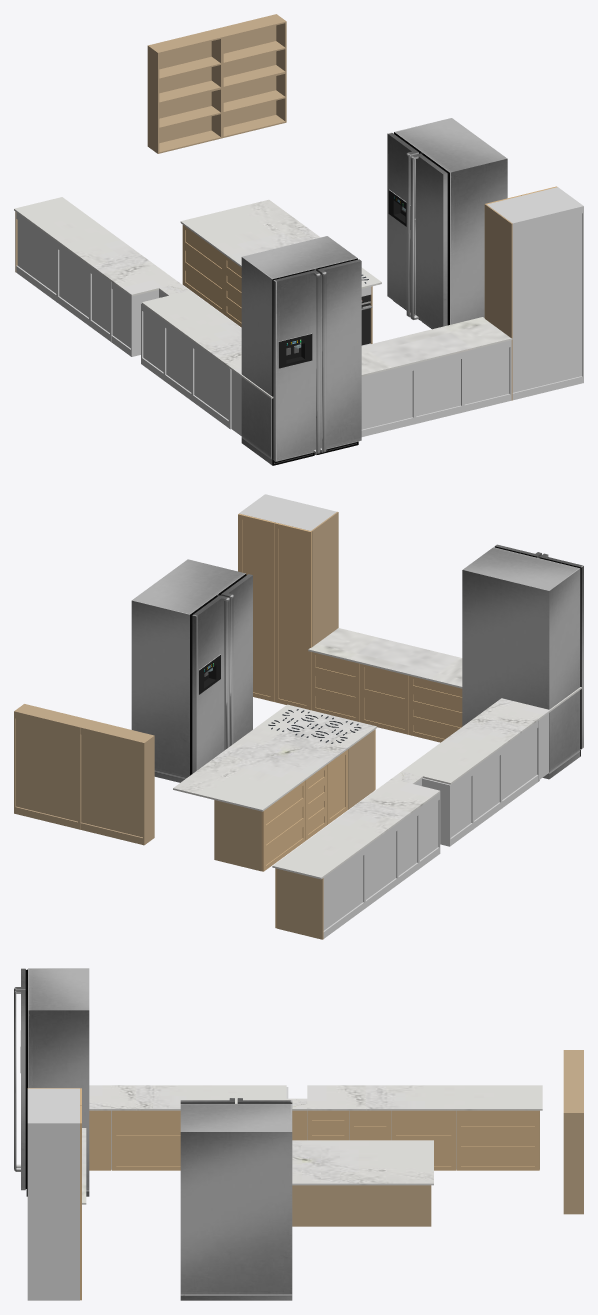
Rendered from Dore_KitchenV2.glb.
3 renders of one model, top to bottom at view 1: azimuth 30°, elevation 25°; view 2: azimuth 150°, elevation 25°; view 3: azimuth 270°, elevation 25°, orthographic.
Visible parts, largest first — view 1: Double Door Fridge, _C-Double Door Fridge (Loose Mesh), 2_Door_007_mesh_005, Worktop_028_mesh_000, Worktop_025_mesh_000, Worktop_026_mesh_000, Worktop_027_mesh_000, 2_Door_007_mesh_000, 1_Door_042_mesh_005, 1_Door_041_mesh_005, 4_Drawer_003_mesh_006, 3_Drawer_006_mesh_006 (+26 smaller); view 2: _C-Double Door Fridge (Loose Mesh), Double Door Fridge, Worktop_025_mesh_000, Worktop_028_mesh_000, 1_Door_041_mesh_005, 1_Door_042_mesh_005, Worktop_027_mesh_000, 2_Door_007_mesh_008, Worktop_026_mesh_000, 2_Door_007_mesh_009, 2_Door_007_mesh_000, 3_Drawer_017_mesh_001 (+20 smaller); view 3: _C-Double Door Fridge (Loose Mesh), Double Door Fridge, 2_Door_007_mesh_001, Worktop_025_mesh_000, Worktop_028_mesh_000, Worktop_045_mesh_000, Worktop_027_mesh_000, 1_Door_042_mesh_001, 2_Door_007_mesh_007, 2_Drawer_008_mesh_011, 2_Drawer_008_mesh_021, 2_Drawer_016_mesh_021 (+6 smaller).
Part boxes in pixels (bbox=[...]): Double Door Fridge: bbox=[241, 236, 361, 465]; _C-Double Door Fridge (Loose Mesh): bbox=[387, 118, 507, 329]; 2_Door_007_mesh_005: bbox=[512, 206, 581, 392]; Worktop_028_mesh_000: bbox=[14, 197, 179, 296]; Worktop_025_mesh_000: bbox=[180, 199, 381, 288]; Worktop_026_mesh_000: bbox=[242, 317, 512, 398]; Worktop_027_mesh_000: bbox=[142, 290, 242, 376]; 2_Door_007_mesh_000: bbox=[485, 204, 512, 400]; 1_Door_042_mesh_005: bbox=[216, 15, 276, 127]; 1_Door_041_mesh_005: bbox=[152, 31, 211, 143]; 4_Drawer_003_mesh_006: bbox=[361, 371, 412, 429]; 3_Drawer_006_mesh_006: bbox=[464, 347, 509, 404]; _C-Double Door Fridge (Loose Mesh): bbox=[131, 559, 252, 782]; Double Door Fridge: bbox=[462, 544, 583, 779]; Worktop_025_mesh_000: bbox=[173, 704, 376, 811]; Worktop_028_mesh_000: bbox=[272, 779, 440, 879]; 1_Door_041_mesh_005: bbox=[81, 727, 142, 837]; 1_Door_042_mesh_005: bbox=[16, 711, 77, 821]; Worktop_027_mesh_000: bbox=[402, 698, 551, 784]; 2_Door_007_mesh_008: bbox=[275, 522, 311, 705]; Worktop_026_mesh_000: bbox=[308, 628, 581, 710]; 2_Door_007_mesh_009: bbox=[239, 513, 275, 696]; 2_Door_007_mesh_000: bbox=[311, 511, 338, 646]; 3_Drawer_017_mesh_001: bbox=[277, 868, 323, 939]; _C-Double Door Fridge (Loose Mesh): bbox=[180, 1098, 292, 1300]; Double Door Fridge: bbox=[14, 968, 89, 1196]; 2_Door_007_mesh_001: bbox=[27, 1122, 79, 1300]; Worktop_025_mesh_000: bbox=[292, 1140, 433, 1185]; Worktop_028_mesh_000: bbox=[307, 1085, 542, 1110]; Worktop_045_mesh_000: bbox=[292, 1185, 431, 1226]; Worktop_027_mesh_000: bbox=[89, 1085, 286, 1110]; 1_Door_042_mesh_001: bbox=[563, 1112, 583, 1214]; 2_Door_007_mesh_007: bbox=[29, 1088, 79, 1122]; 2_Drawer_008_mesh_011: bbox=[116, 1144, 180, 1165]; 2_Drawer_008_mesh_021: bbox=[116, 1114, 180, 1135]; 2_Drawer_016_mesh_021: bbox=[396, 1114, 451, 1135].
Bounding box in the file's own units: 3.88 × 2.21 × 6.12.
Materials: 348 (3 with a texture image).
